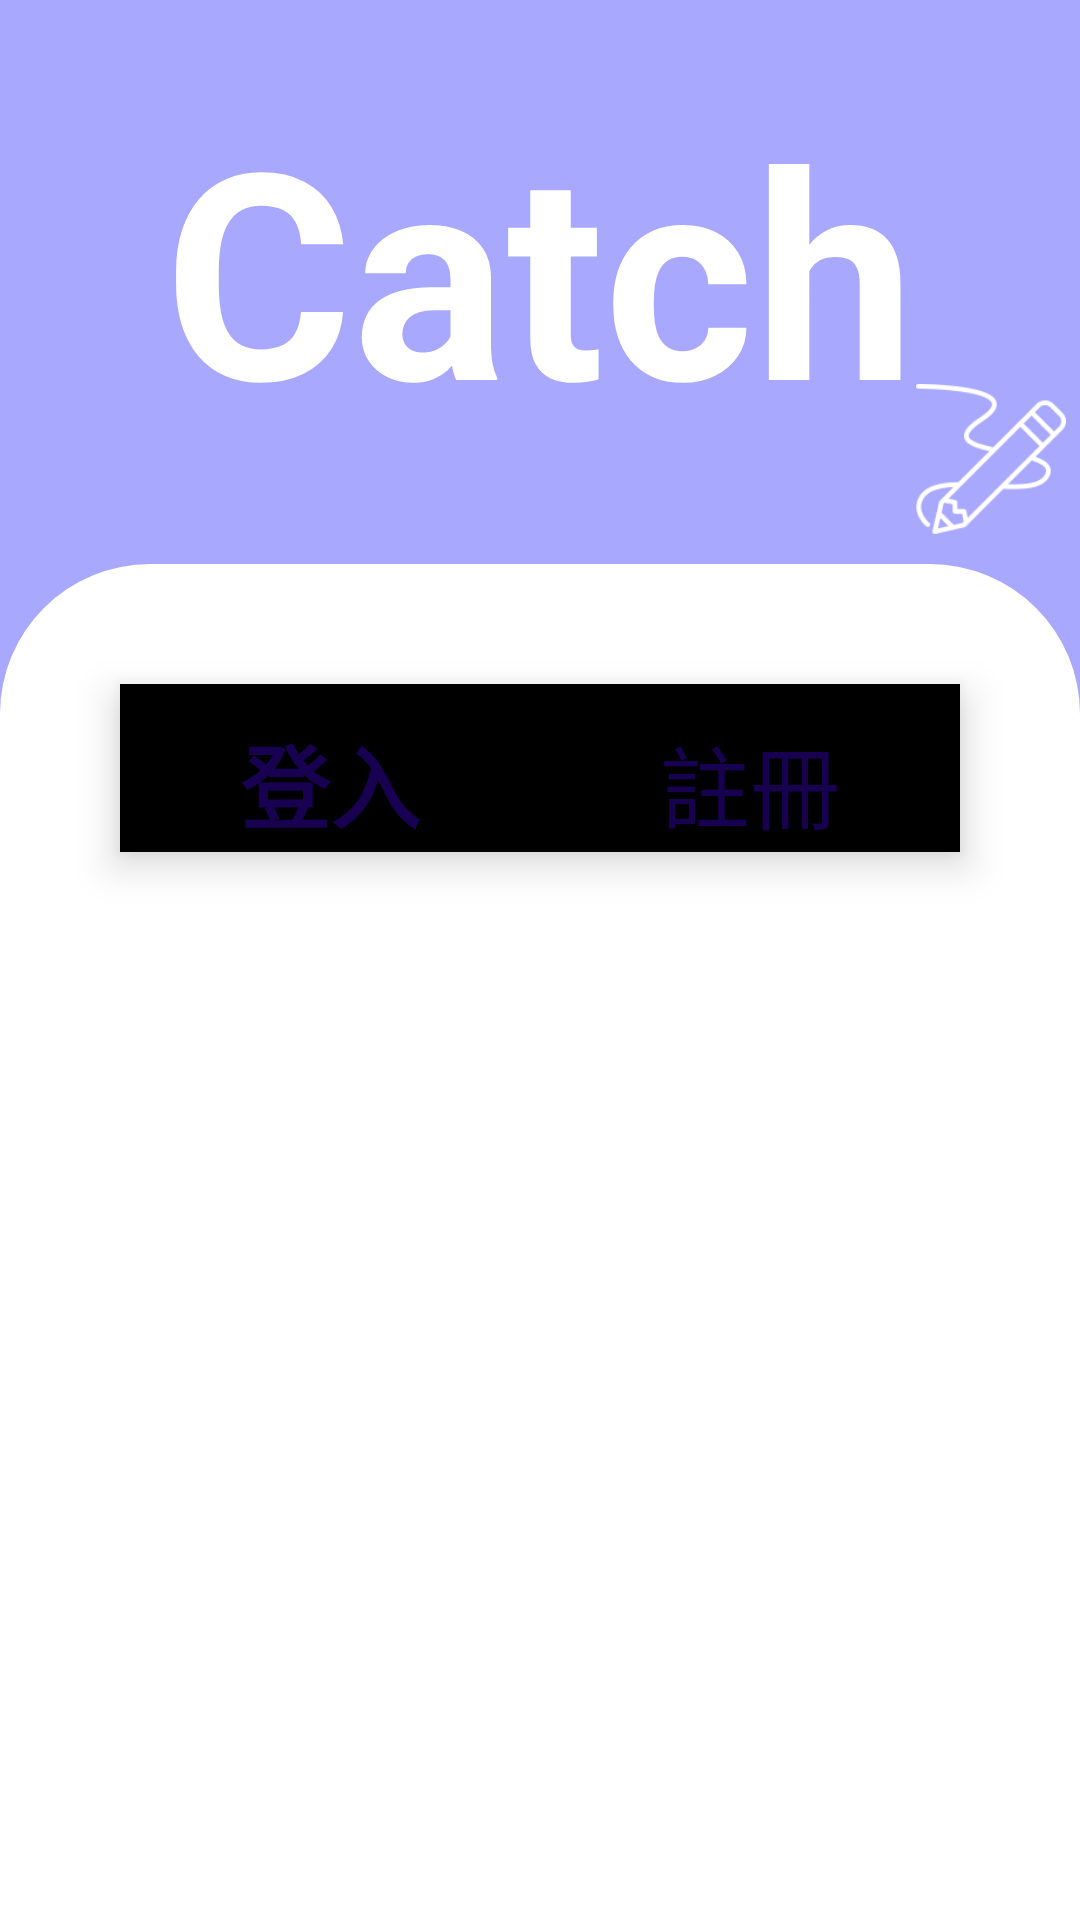

Named icons in this screenshot (1080px x 1920px) and their bounding boxes, (x1, y1, x2, y2):
pencil: (916, 384, 1066, 534)
